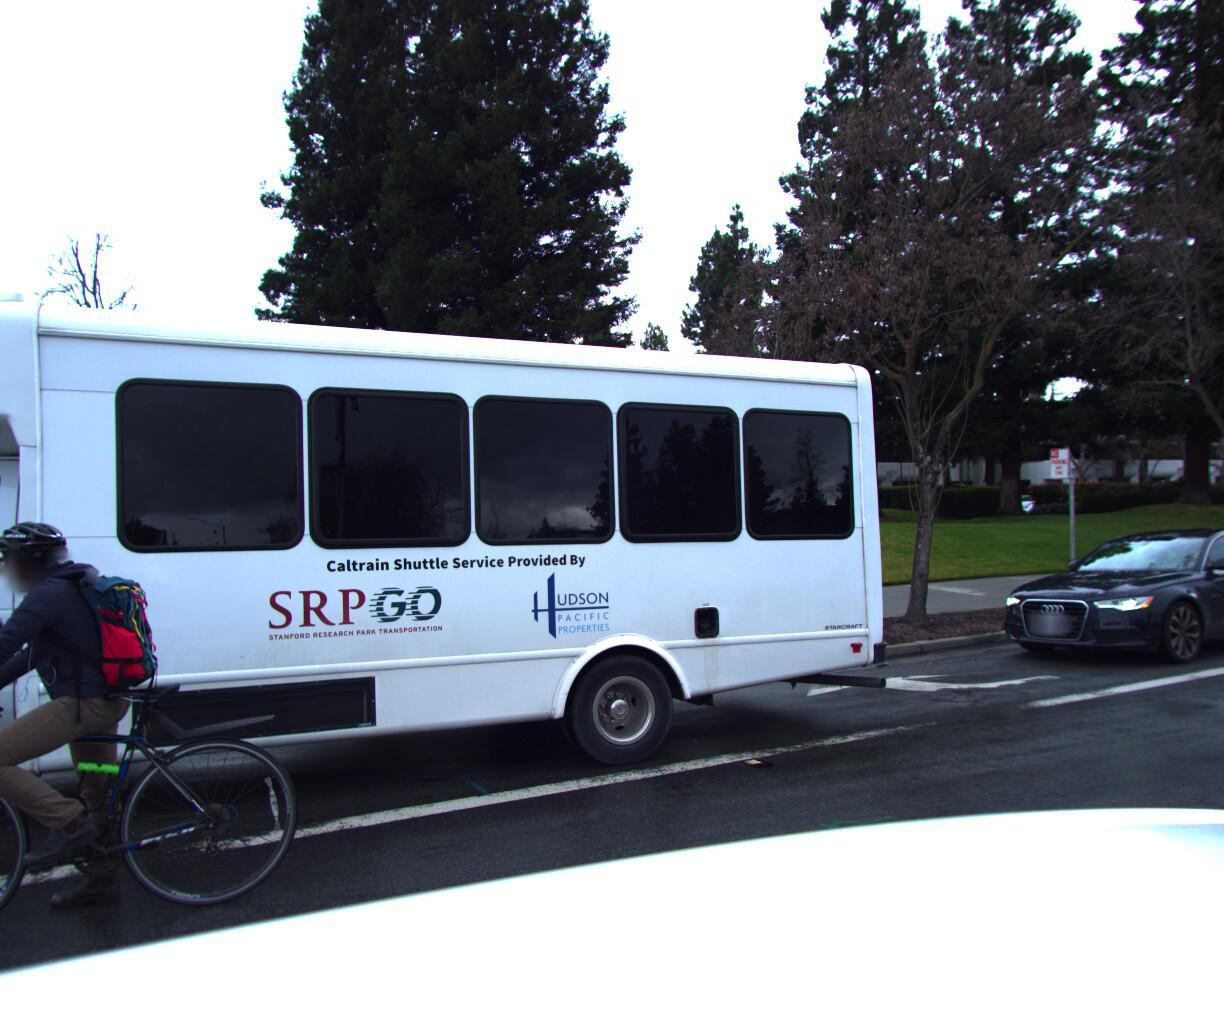bicycle: (0, 483, 327, 1024)
bus: (0, 218, 888, 1019)
car: (976, 525, 1224, 676)
